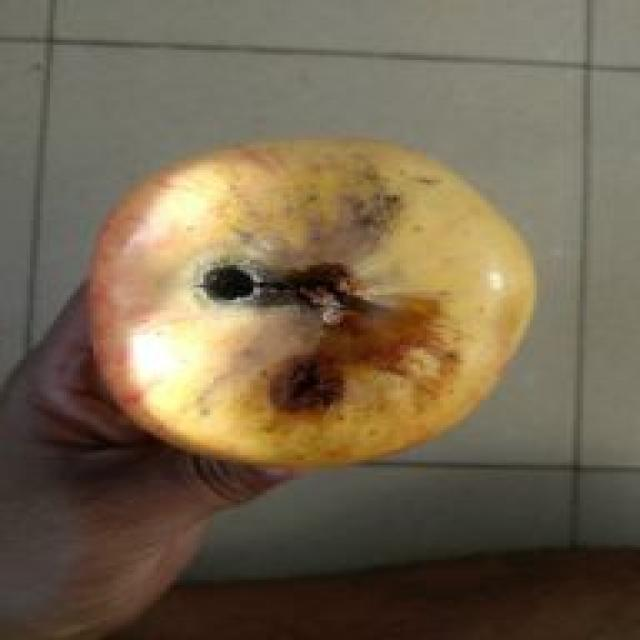Bad_Apple: (88, 138, 533, 468)
